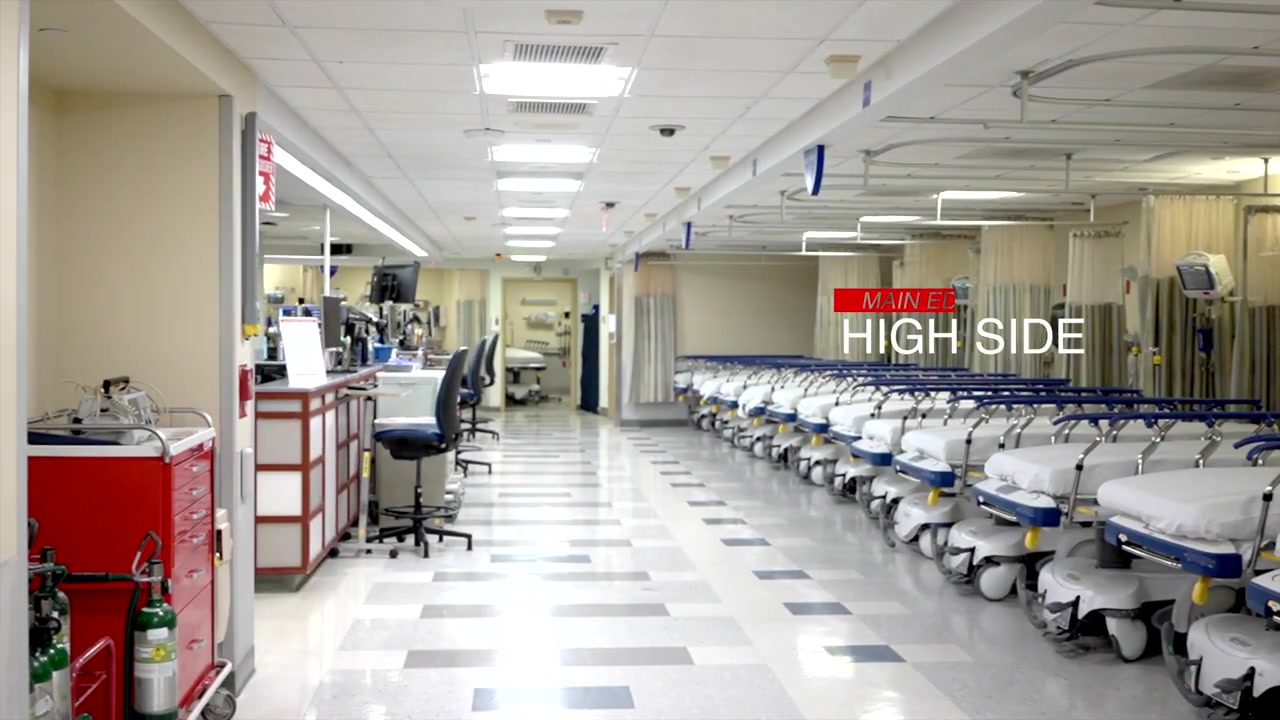TV: (368, 261, 421, 305)
bedrail: (958, 397, 1264, 489), (1050, 413, 1280, 524), (899, 385, 1132, 451), (1048, 409, 1280, 445), (941, 387, 1146, 426), (1231, 435, 1280, 580), (870, 385, 1089, 417), (832, 372, 1024, 406), (847, 376, 1070, 403), (801, 365, 977, 397), (813, 368, 1014, 395), (779, 365, 939, 389), (762, 363, 914, 387), (741, 358, 860, 387), (723, 357, 833, 383), (709, 354, 816, 377), (684, 356, 814, 369), (524, 339, 549, 354)
bedside_monitor: (1174, 261, 1223, 300), (952, 283, 976, 306)
chair: (366, 346, 474, 558), (456, 338, 500, 442), (461, 332, 502, 390)
computer: (321, 293, 349, 349), (428, 306, 437, 339)
countertop: (255, 363, 383, 397)
curtain: (1142, 185, 1242, 410), (969, 215, 1054, 378), (1226, 203, 1278, 420), (1062, 230, 1127, 389), (903, 230, 977, 369), (810, 242, 890, 363), (628, 251, 678, 403), (456, 298, 488, 376), (892, 257, 905, 364)
handle: (185, 638, 206, 653), (184, 533, 206, 546), (185, 484, 206, 497), (186, 462, 208, 474), (185, 568, 205, 581), (185, 509, 206, 521)
hospital_bed: (941, 391, 1280, 602), (1032, 396, 1280, 665), (889, 383, 1255, 551), (857, 380, 1161, 522), (818, 375, 1124, 497), (1158, 418, 1280, 720), (790, 362, 1025, 469), (768, 360, 995, 461), (742, 355, 940, 451), (695, 353, 900, 434), (677, 347, 883, 408), (718, 355, 850, 433), (505, 339, 562, 406)
iv_pole: (1125, 332, 1142, 389), (1148, 347, 1163, 397), (957, 331, 965, 367), (882, 332, 890, 364)
medical_drawer: (27, 407, 237, 720)
